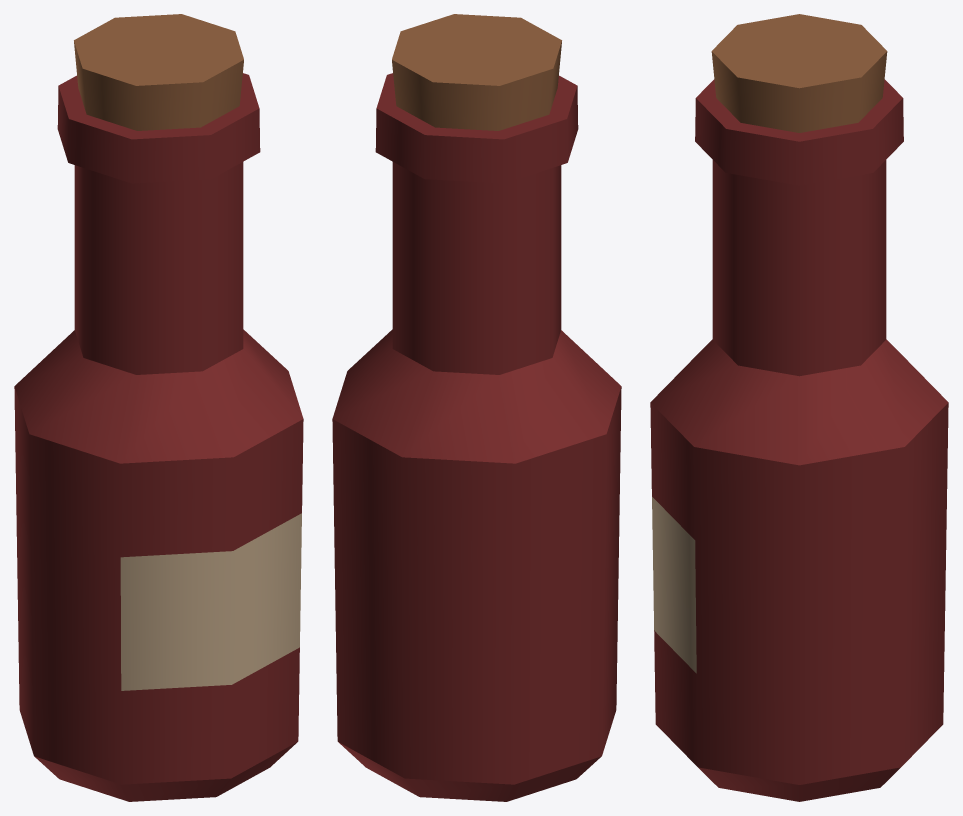
The model's file is Potion_03.fbx.
3 renders of one model, left to right at view 1: azimuth 30°, elevation 25°; view 2: azimuth 150°, elevation 25°; view 3: azimuth 270°, elevation 25°, orthographic.
Parts seen in each view (by area): view 1: Potion_03, Potion_03_Top; view 2: Potion_03, Potion_03_Top; view 3: Potion_03, Potion_03_Top.
Part boxes in pixels (bbox=[...]): Potion_03: bbox=[14, 73, 303, 801]; Potion_03_Top: bbox=[74, 14, 243, 130]; Potion_03: bbox=[332, 73, 621, 801]; Potion_03_Top: bbox=[392, 14, 561, 130]; Potion_03: bbox=[650, 79, 948, 801]; Potion_03_Top: bbox=[711, 14, 887, 132].
Size of the model in its own units: 0.0852 by 0.2216 by 0.0852.
